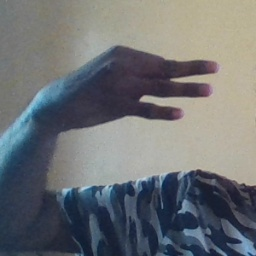K: (51, 42, 219, 128)
